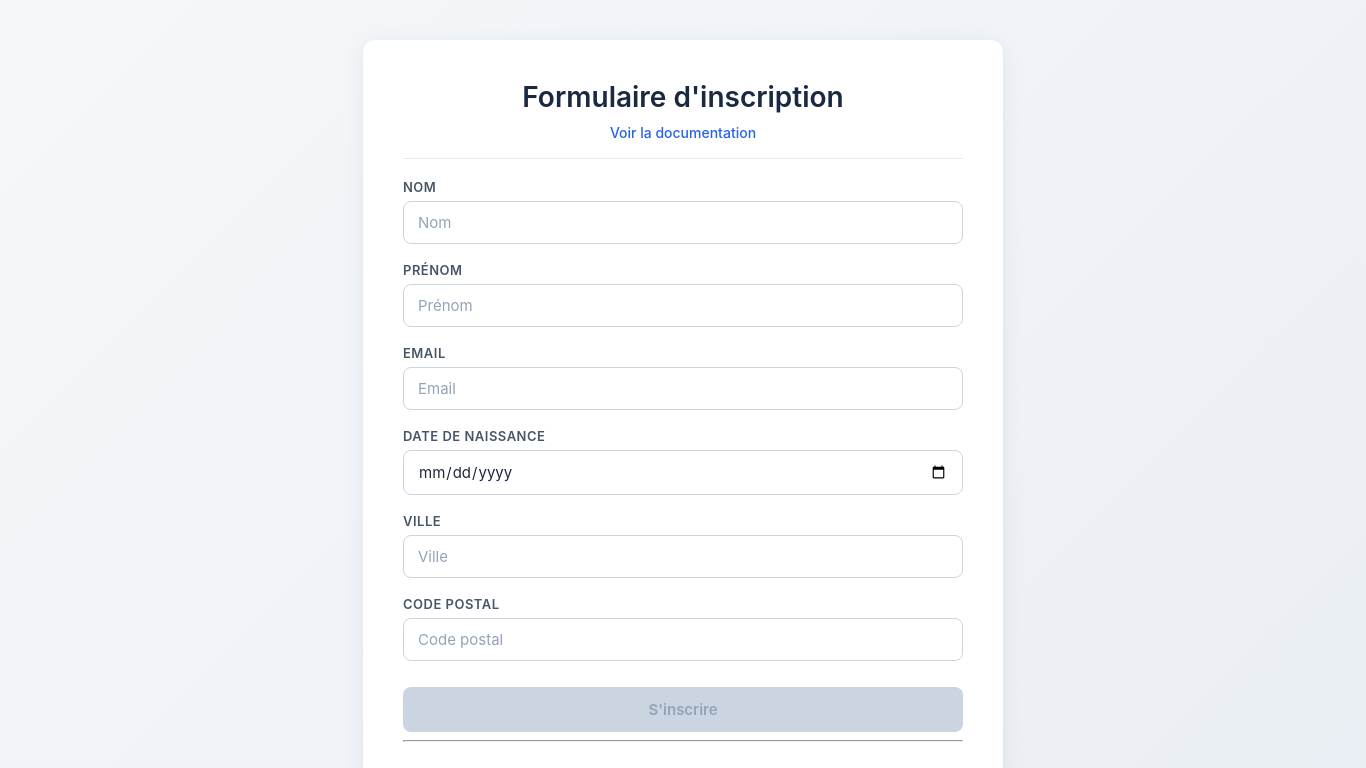
Test: Validation des champs › l'erreur disparaît si on vide le champ
Type "invalide" into the field labelled "Email". click: (683, 388)
box: [403,367,963,410]
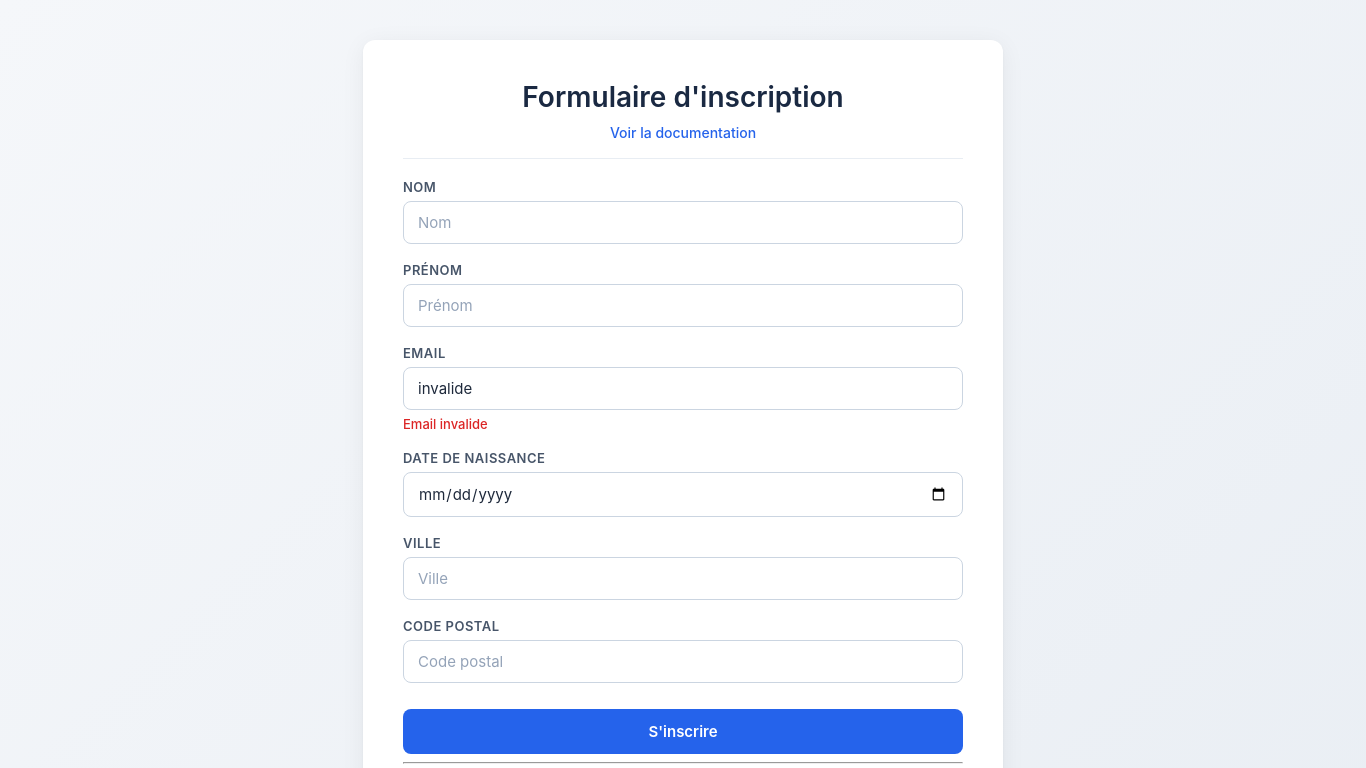
Check: the text "Email invalide" is shown, box [403,416,488,432]
Clear the field labelled "Email". click: (683, 388)
box: [403,367,963,410]
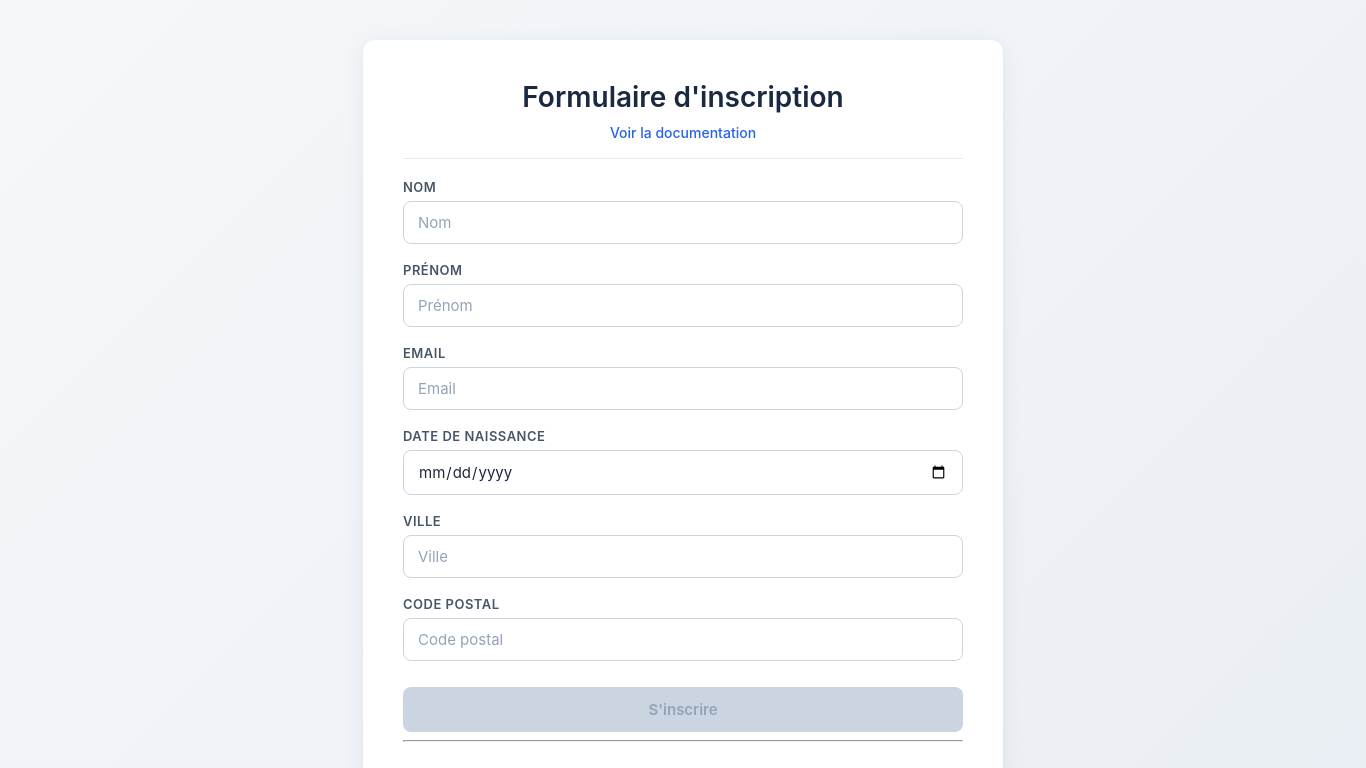
Check: the text with test id "error-email" is gone
